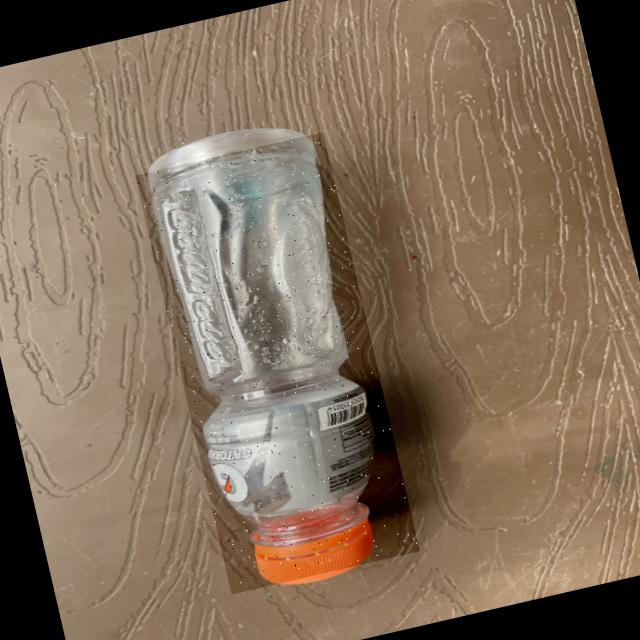REJECT: (134, 130, 419, 592)
